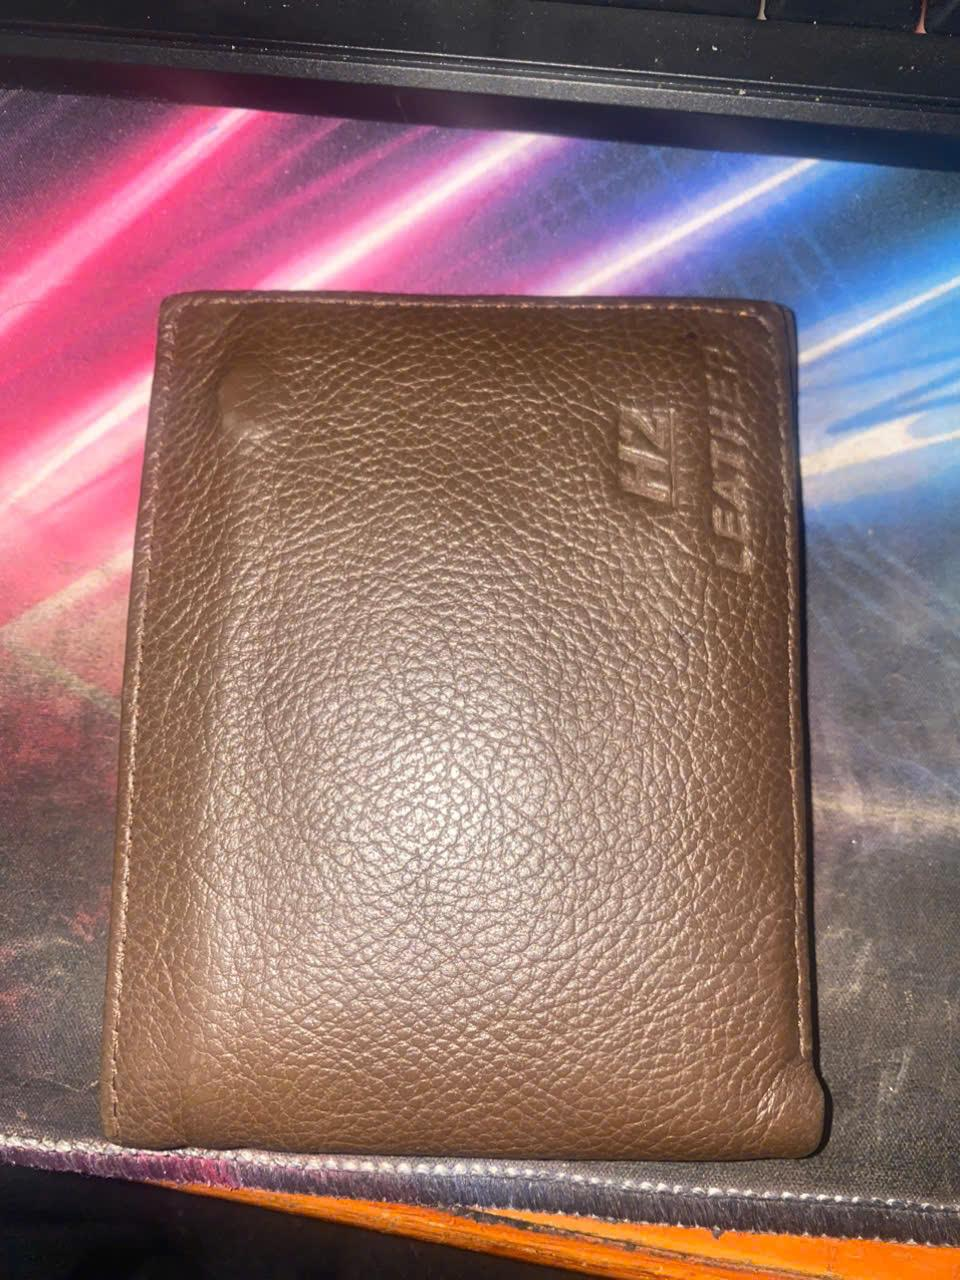vida: (101, 293, 823, 1159)
